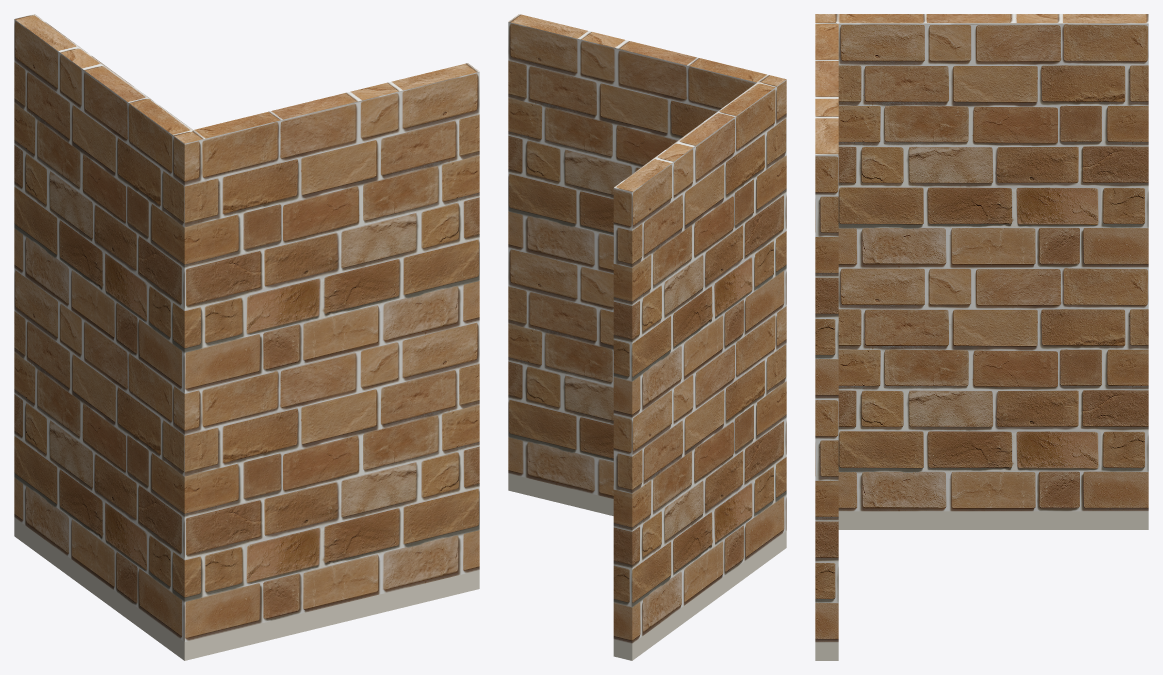
File: ARC0210015.fbx
The picture shows the model from 3 angles, left to right: view 1: azimuth 30°, elevation 25°; view 2: azimuth 150°, elevation 25°; view 3: azimuth 270°, elevation 25°; orthographic projection. The views are drawn at different scales.
Visible parts, largest first — view 1: smARC0210015; view 2: smARC0210015; view 3: smARC0210015.
Boxes of the visible parts, left/top/right/bottom form: smARC0210015: left=14, top=14, right=479, bottom=660; smARC0210015: left=508, top=14, right=786, bottom=660; smARC0210015: left=815, top=14, right=1148, bottom=660.
Size of the model in its own units: 196 by 328 by 196.
Materials: 1 (1 with a texture image).
